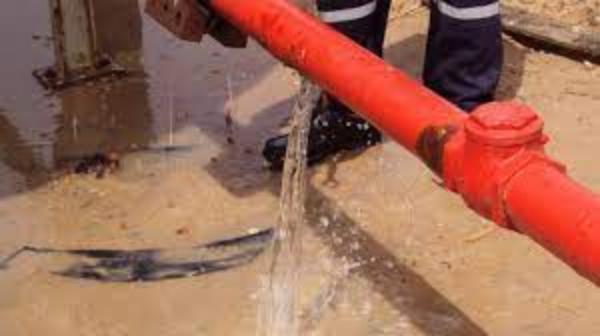pipe burst: (266, 66, 328, 336)
